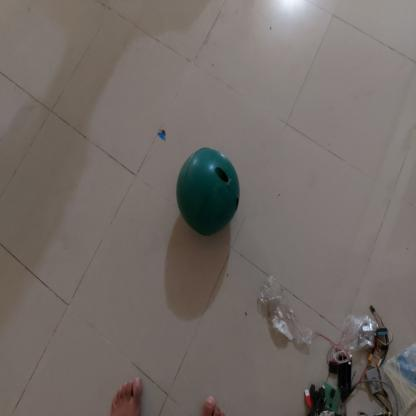green_buoy: (175, 147, 244, 237)
